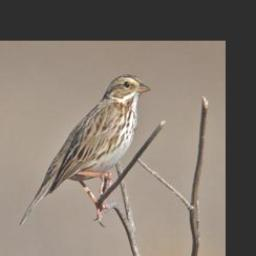Sparrow: (17, 74, 150, 228)
